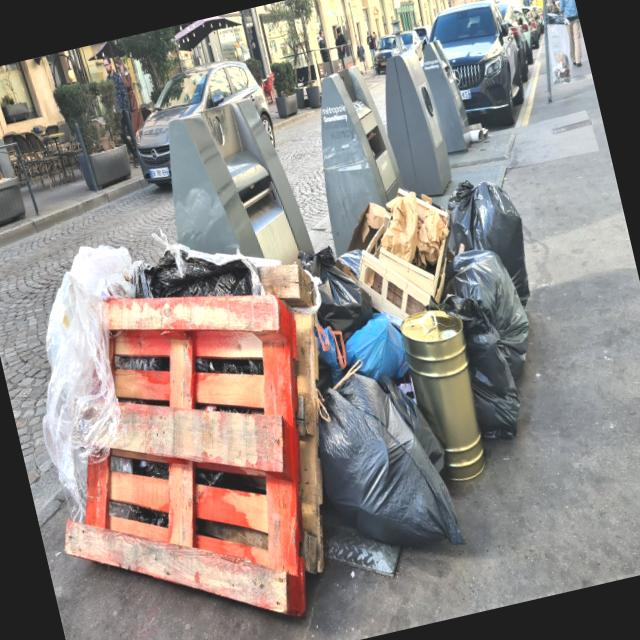garbage: (8, 93, 598, 640)
